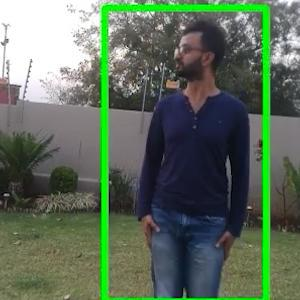follow: (86, 0, 239, 299), (142, 5, 248, 299)
